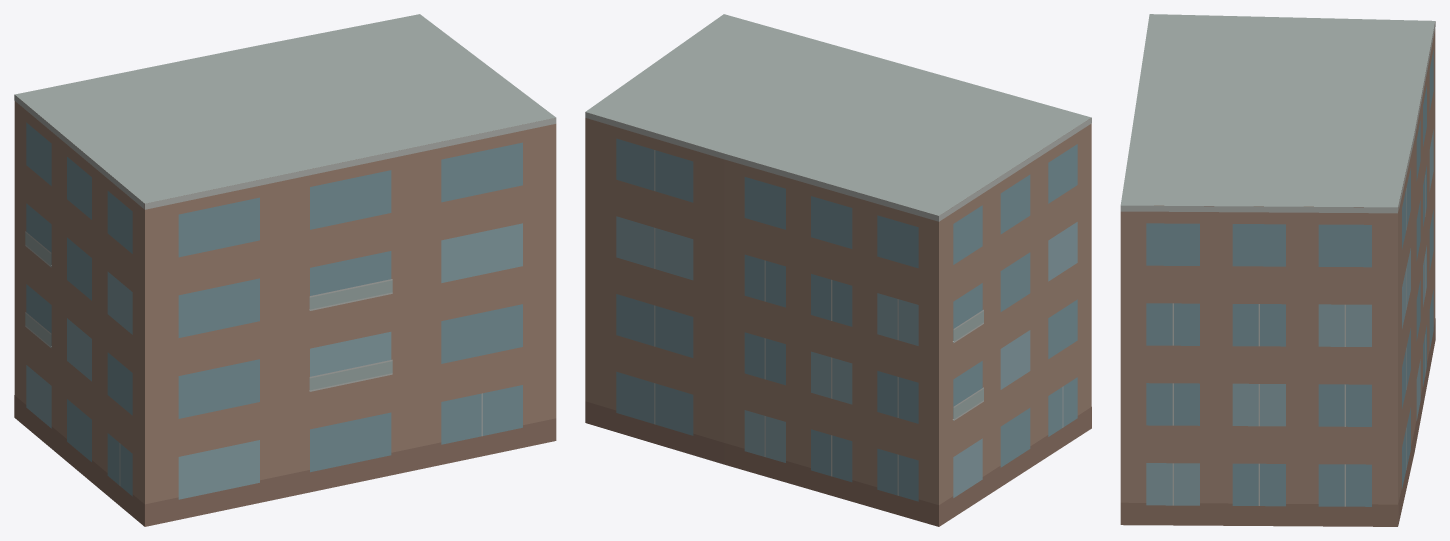
The model's file is survey-upis-32987615.glb.
The picture shows the model from 3 angles, left to right: view 1: azimuth 30°, elevation 25°; view 2: azimuth 150°, elevation 25°; view 3: azimuth 270°, elevation 25°; orthographic projection. The views are drawn at different scales.
Parts seen in each view (by area): view 1: survey-upis-32987615.tmp; view 2: survey-upis-32987615.tmp; view 3: survey-upis-32987615.tmp.
Boxes of the visible parts, box(x1,y1,x2,y2) form: survey-upis-32987615.tmp: box(14, 14, 556, 526); survey-upis-32987615.tmp: box(585, 14, 1091, 526); survey-upis-32987615.tmp: box(1120, 14, 1435, 526).
Size of the model in its own units: 16.88 by 13 by 11.62.
